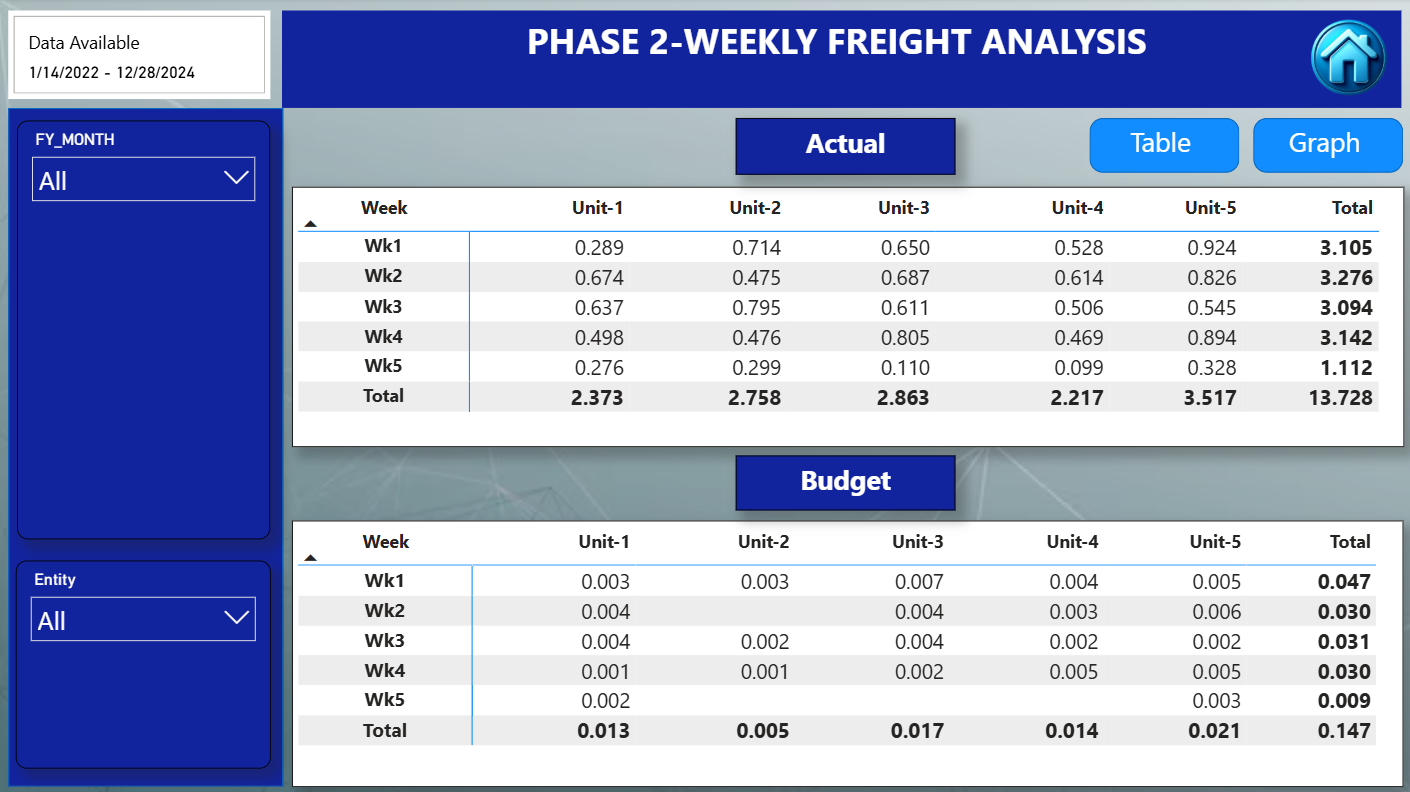

This screenshot's page, from the dashboard's own definition file:
{"tool":"powerbi","page":{"name":"Phase 2","canvas":[1280,720],"ordinal":3},"visuals":[{"type":"pivotTable","fields":{"Columns":["Fact-MasterNew.Unit"],"Rows":["DimDate.Week Label"],"Values":["Fact-MasterNew.Sales"]},"box":[266.5,170.5,1004.9,234.9],"z":0},{"type":"pivotTable","fields":{"Columns":["Fact-MasterNew.Unit"],"Rows":["DimDate.Week Label"],"Values":["Measure.Budget Sales"]},"box":[266.5,472,1003.8,240.5],"z":1000},{"type":"shape","box":[10.2,98.8,248.4,613.1],"z":2000},{"type":"shape","box":[986.9,108.4,135.5,49.5],"z":2500,"group":"g2"},{"type":"shape","box":[1134.8,108.4,135.5,49.5],"z":2500,"group":"g3"},{"type":"slicer","fields":{"Values":["Entity.Entity"]},"box":[16.5,507.7,230.5,188],"z":3000},{"type":"slicer","fields":{"Values":["DimDate.FY MONTH"]},"box":[17.8,111.1,229.2,378.7],"z":4000},{"type":"textbox","box":[667.3,108.4,198.7,50.8],"z":5000},{"type":"textbox","box":[667.3,413.3,198.7,49.7],"z":6000},{"type":"textbox","box":[258,11,1011.3,87.8],"z":7000},{"type":"cardVisual","fields":{"Data":["DimDate.Data Available"]},"box":[10.2,11.3,237.1,80.2],"z":8000},{"type":"textbox","box":[1010.3,108.4,81.3,47.4],"z":8001,"group":"g2"},{"type":"textbox","box":[1158.2,108.4,81.3,47.4],"z":8001,"group":"g3"},{"type":"group","id":"g1","title":"Group 6","box":[986.9,108.4,135.5,49.7],"z":9000},{"type":"image","box":[1173.2,7.9,96,96],"z":10000},{"type":"group","id":"g2","title":"Group 2","box":[986.9,108.4,135.5,49.5],"z":10001,"group":"g4"},{"type":"group","id":"g3","title":"Group 2","box":[1134.8,108.4,135.5,49.5],"z":10001,"group":"g5"},{"type":"group","id":"g4","title":"Group 1","box":[986.9,108.4,135.5,49.5],"z":10002,"group":"g1"},{"type":"group","id":"g5","title":"Group 6","box":[1134.8,108.4,135.5,49.7],"z":11000}]}

Visuals, with their boxes in screenshot pixels (x1, y1, x2, y2), scaled from the page's 1280x720 canvas onto the 1410x792 screenshot:
pivotTable - Fact-MasterNew.Unit x DimDate.Week Label: [left=294, top=188, right=1401, bottom=446]
pivotTable - Fact-MasterNew.Unit x DimDate.Week Label: [left=294, top=519, right=1399, bottom=784]
shape: [left=11, top=109, right=285, bottom=783]
shape: [left=1087, top=119, right=1236, bottom=174]
shape: [left=1250, top=119, right=1399, bottom=174]
slicer - Entity.Entity: [left=18, top=558, right=272, bottom=765]
slicer - DimDate.FY MONTH: [left=20, top=122, right=272, bottom=539]
textbox: [left=735, top=119, right=954, bottom=175]
textbox: [left=735, top=455, right=954, bottom=509]
textbox: [left=284, top=12, right=1398, bottom=109]
cardVisual - DimDate.Data Available: [left=11, top=12, right=272, bottom=101]
textbox: [left=1113, top=119, right=1202, bottom=171]
textbox: [left=1276, top=119, right=1365, bottom=171]
"Group 6" group: [left=1087, top=119, right=1236, bottom=174]
image: [left=1292, top=9, right=1398, bottom=114]
"Group 2" group: [left=1087, top=119, right=1236, bottom=174]
"Group 2" group: [left=1250, top=119, right=1399, bottom=174]
"Group 1" group: [left=1087, top=119, right=1236, bottom=174]
"Group 6" group: [left=1250, top=119, right=1399, bottom=174]
